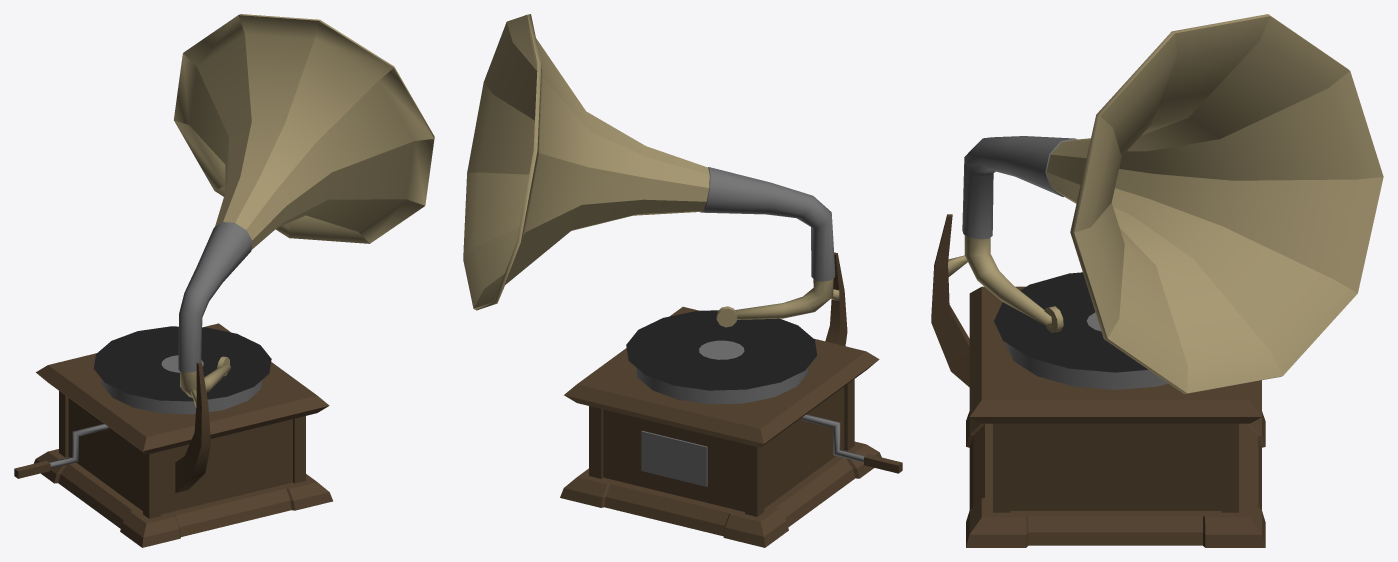
The model's file is S_Gramophone.fbx.
3 renders of one model, left to right at view 1: azimuth 30°, elevation 25°; view 2: azimuth 150°, elevation 25°; view 3: azimuth 270°, elevation 25°, orthographic. The views are drawn at different scales.
Visible parts, largest first — view 1: S_Gramophone; view 2: S_Gramophone; view 3: S_Gramophone.
Boxes of the visible parts, box(x1,y1,x2,y2) form: S_Gramophone: box(14, 14, 434, 547); S_Gramophone: box(463, 14, 902, 547); S_Gramophone: box(931, 14, 1383, 547).
Bounding box in the file's own units: 130 × 125 × 92.07.
